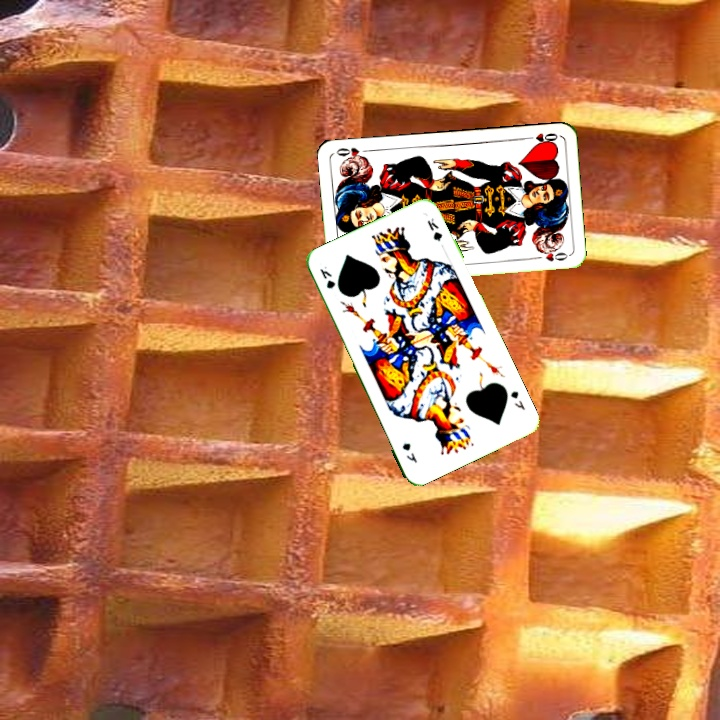GK: (316, 262, 338, 293), (506, 387, 528, 413)
HO: (520, 129, 560, 147)
